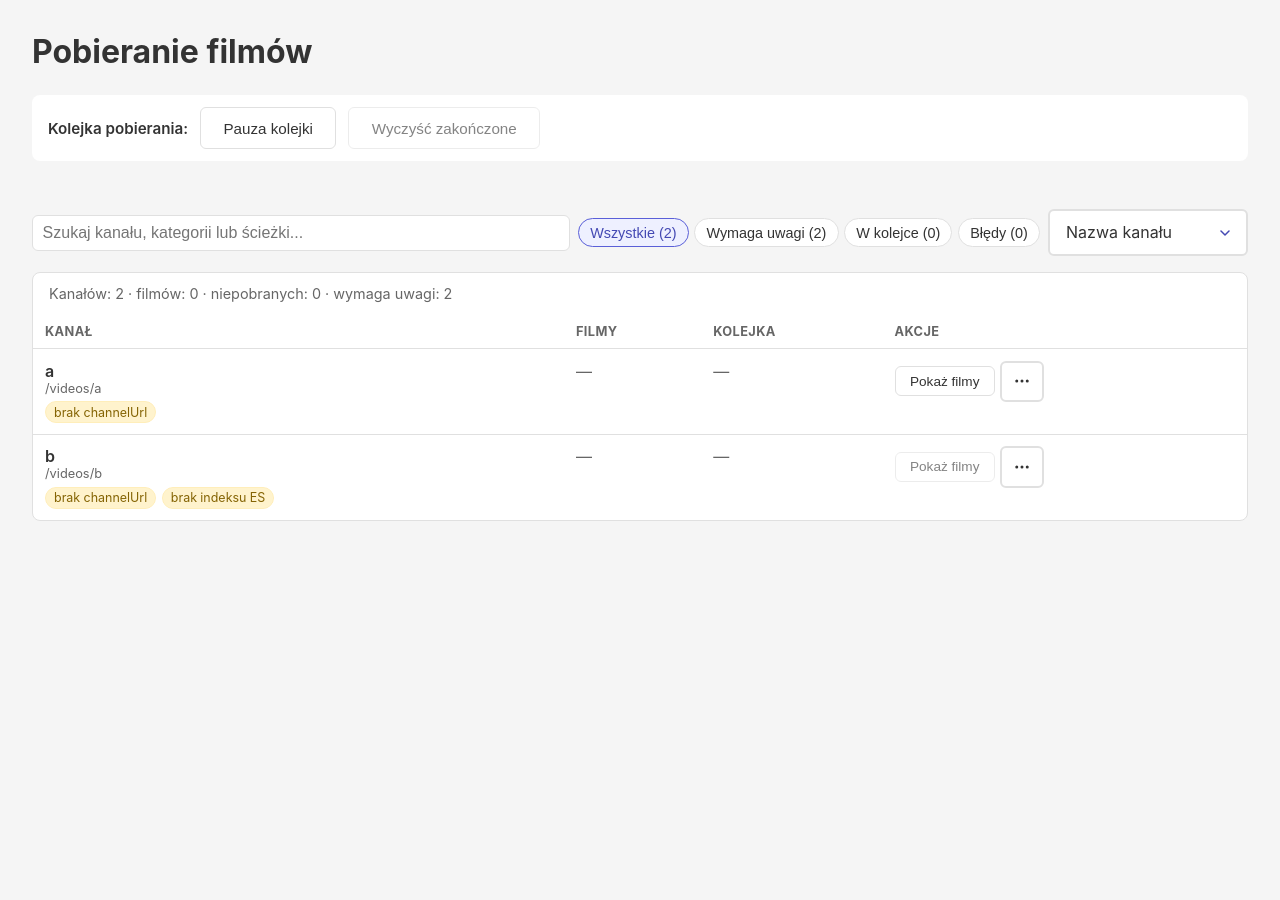
Test: StatusPage › says so in the sheet when an open channel has no config.json
Click the button "Pokaż filmy" in the row of "/videos/a".
click(945, 381)  # box left=895, top=366, right=995, bottom=396
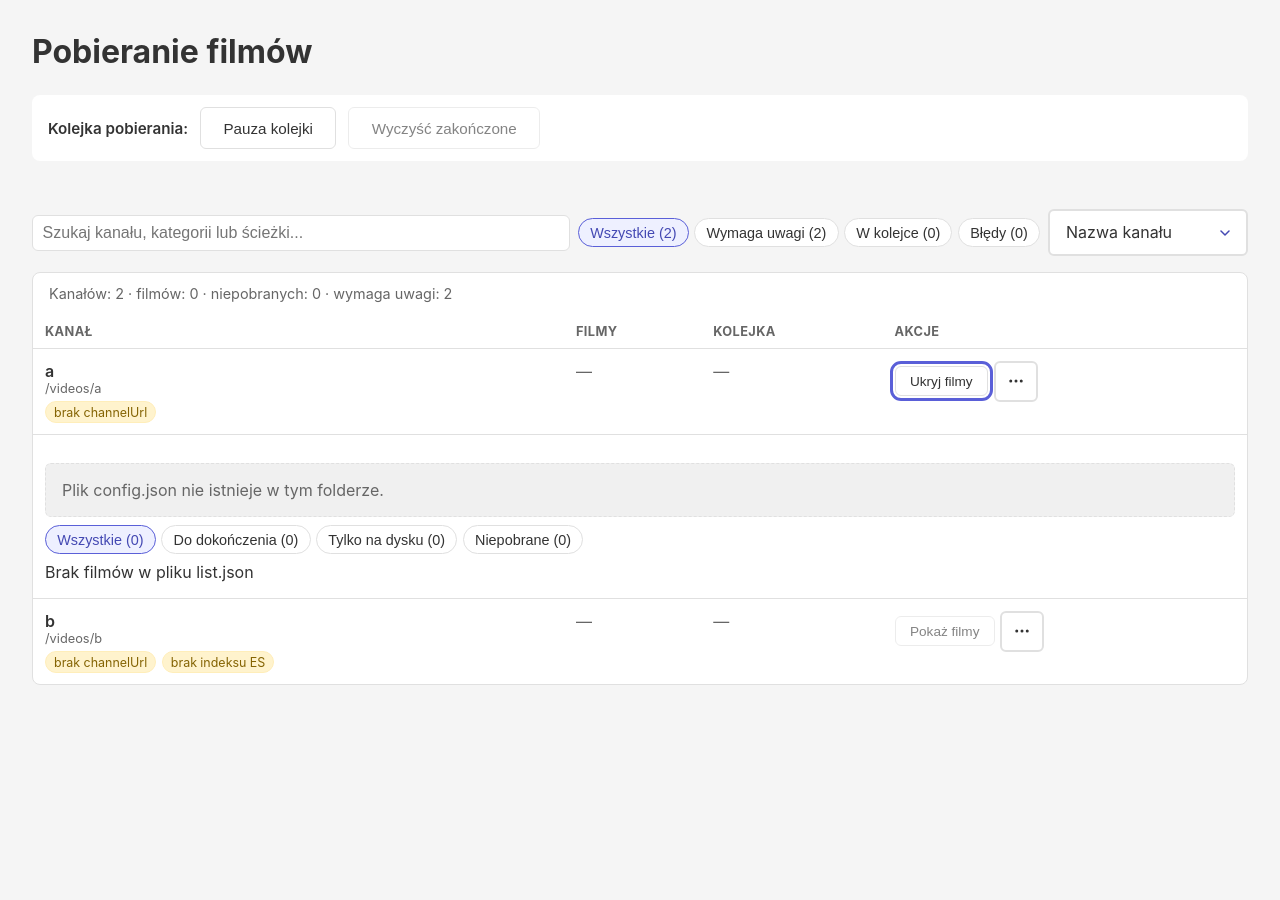
Expected: the text "Plik config.json nie istnieje w tym folderze." is shown, left=62, top=480, right=384, bottom=500
